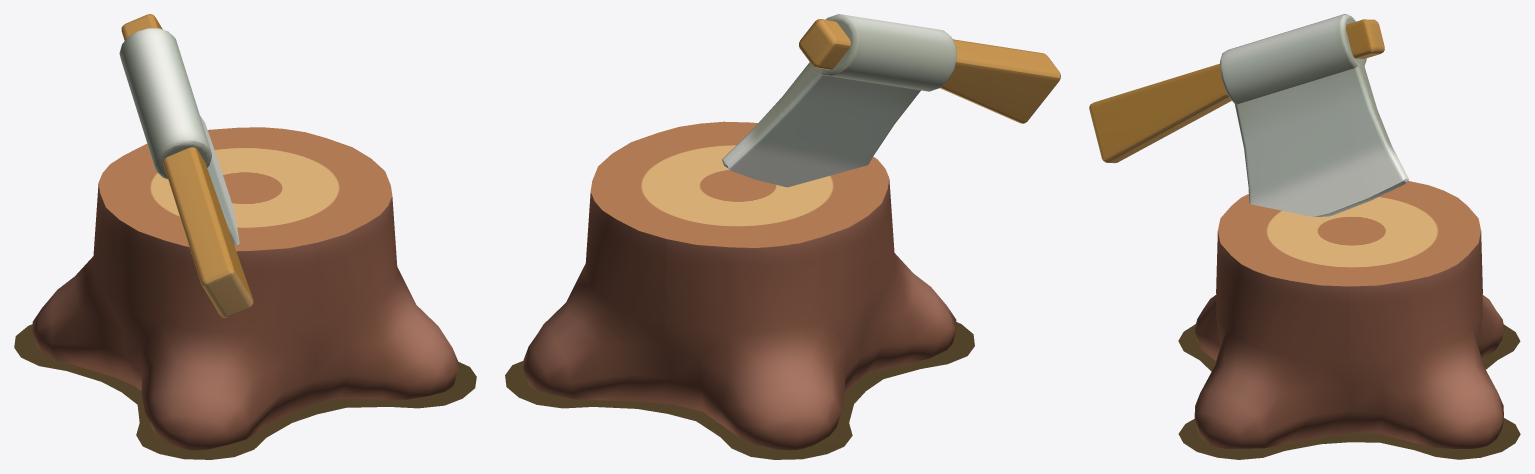
File: TreeHead.fbx
The picture shows the model from 3 angles, left to right: view 1: azimuth 30°, elevation 25°; view 2: azimuth 150°, elevation 25°; view 3: azimuth 270°, elevation 25°; orthographic projection. The views are drawn at different scales.
Visible parts, largest first — view 1: group36_pCube57, pCube60, group36_pCube58; view 2: group36_pCube57, pCube60, group36_pCube58; view 3: group36_pCube57, pCube60, group36_pCube58.
Boxes of the visible parts, left/top/right/bottom form: group36_pCube57: left=32, top=127, right=458, bottom=450; pCube60: left=119, top=14, right=253, bottom=317; group36_pCube58: left=14, top=324, right=476, bottom=459; group36_pCube57: left=523, top=121, right=956, bottom=450; pCube60: left=722, top=14, right=1060, bottom=187; group36_pCube58: left=505, top=322, right=974, bottom=459; group36_pCube57: left=1194, top=181, right=1504, bottom=448; pCube60: left=1089, top=14, right=1408, bottom=216; group36_pCube58: left=1178, top=324, right=1520, bottom=459.
Bounding box in the file's own units: 130 × 134 × 156.
